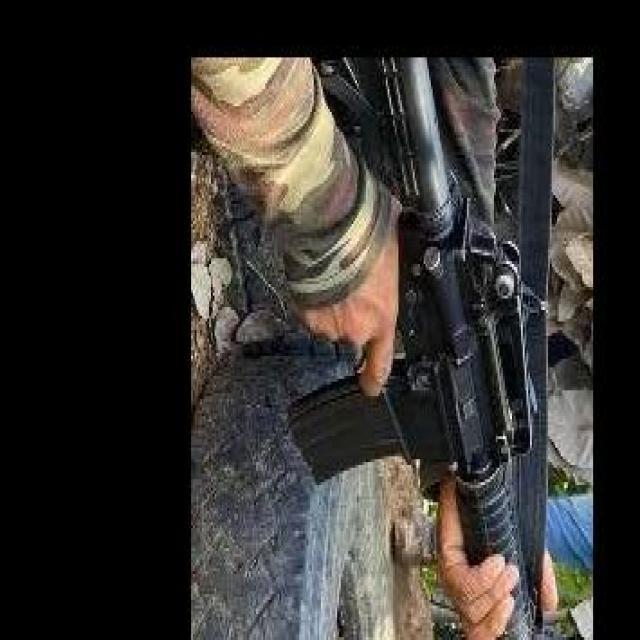weapon: (286, 57, 546, 640)
